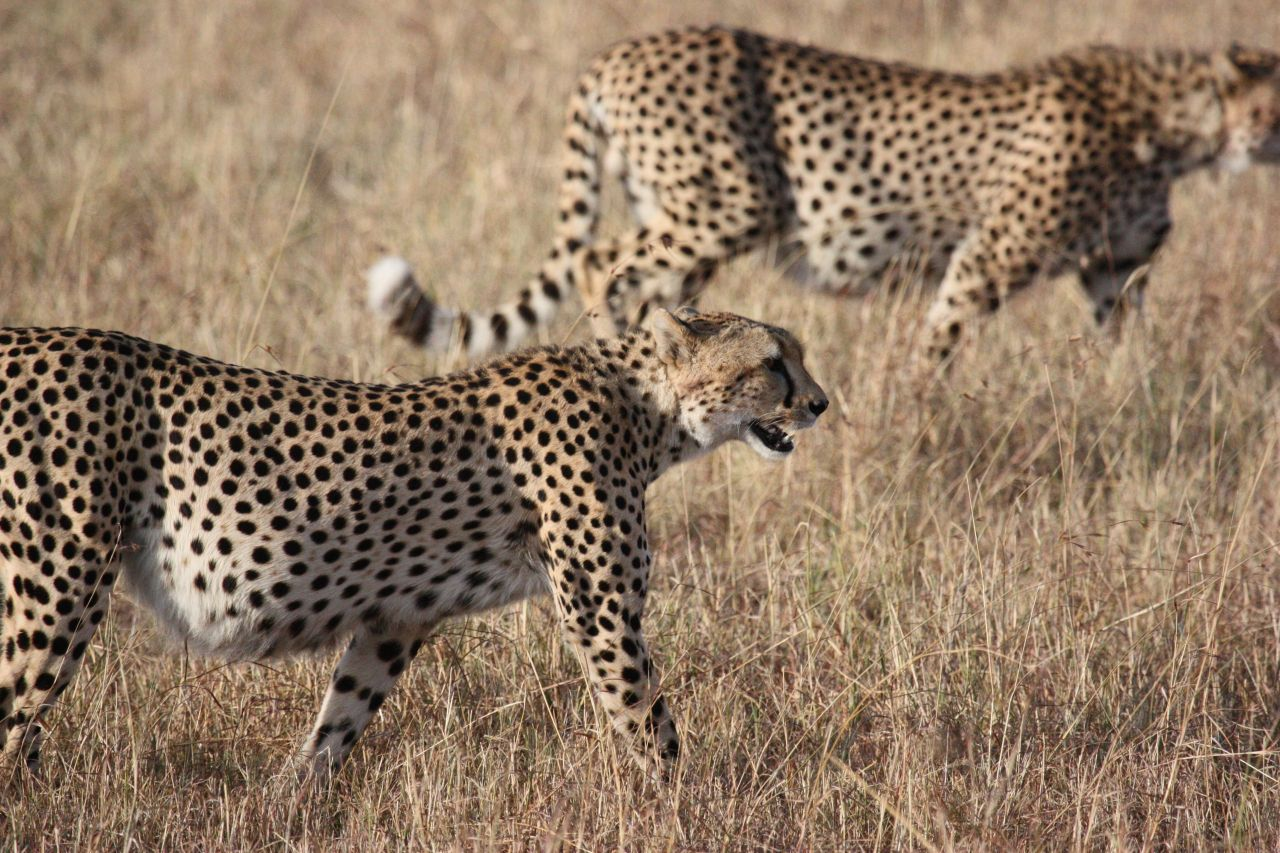cheetah: (627, 280, 846, 491)
